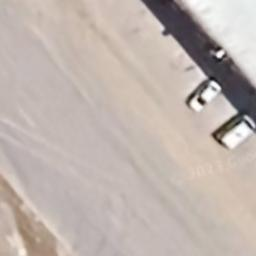sedan: (186, 76, 224, 114)
van: (210, 108, 256, 152)
